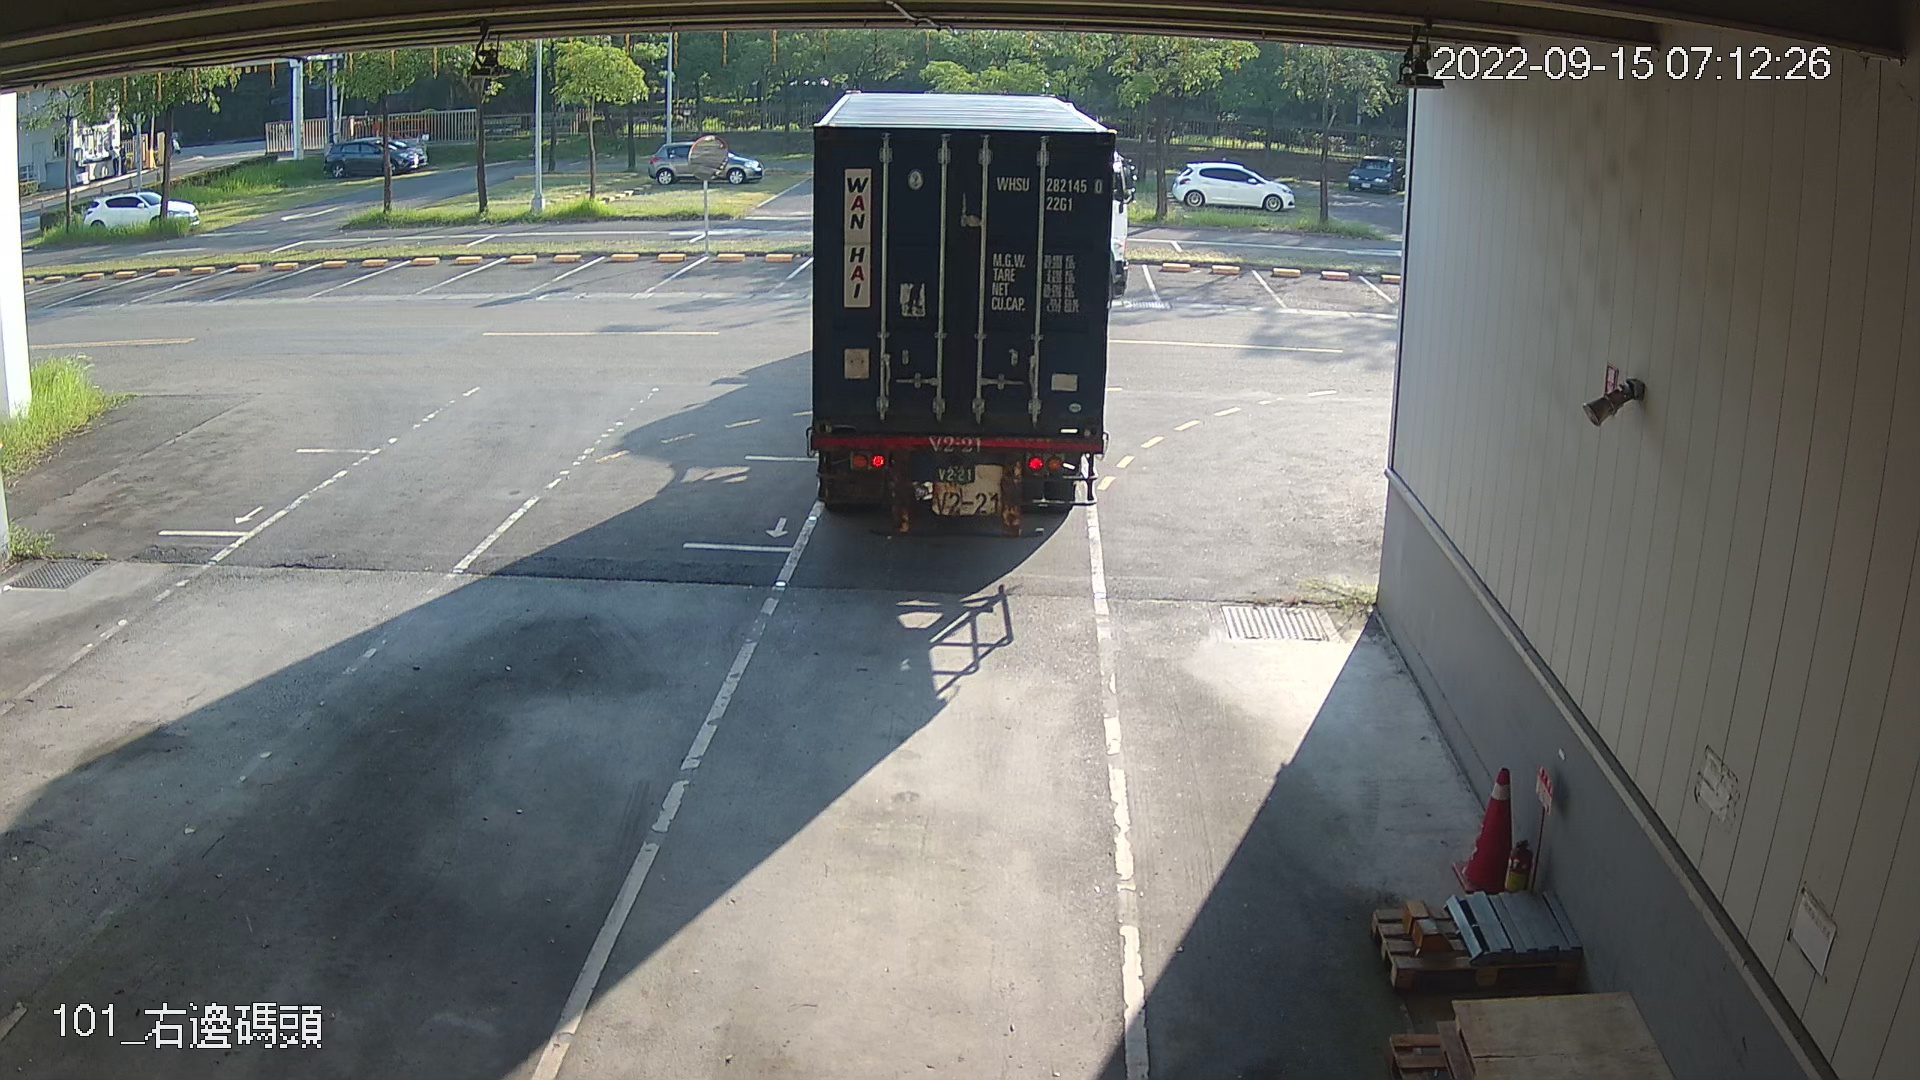container: (992, 170, 1109, 218)
